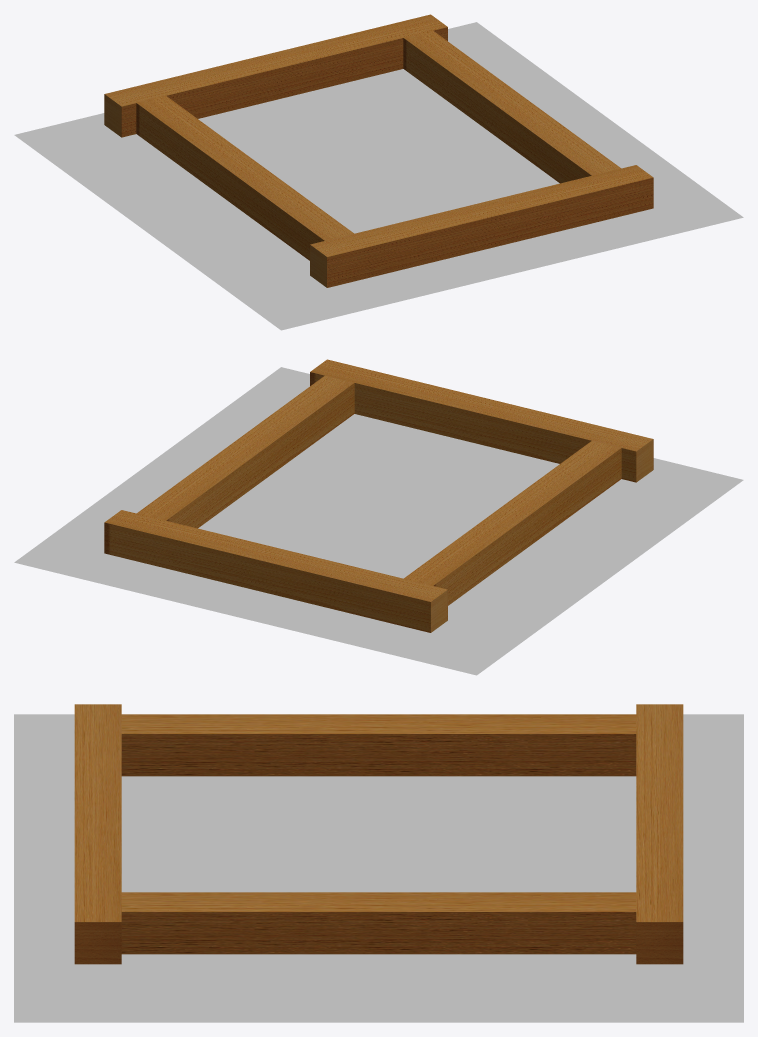
Rendered from map.dae.
The picture shows the model from 3 angles, top to bottom: view 1: azimuth 30°, elevation 25°; view 2: azimuth 150°, elevation 25°; view 3: azimuth 270°, elevation 25°; orthographic projection. The views are drawn at different scales.
Visible parts, largest first — view 1: Plane, Cube.003, Cube.002, Cube, Cube.001; view 2: Plane, Cube.002, Cube.003, Cube, Cube.001; view 3: Plane, Cube.001, Cube, Cube.003, Cube.002.
Part boxes in pixels (box(x1,y1,x2,y2)): Plane: box(14, 22, 743, 330); Cube.003: box(310, 165, 653, 287); Cube.002: box(104, 14, 447, 137); Cube: box(136, 96, 353, 260); Cube.001: box(403, 30, 621, 183); Plane: box(14, 367, 743, 675); Cube.002: box(104, 510, 447, 632); Cube.003: box(310, 359, 653, 482); Cube: box(404, 441, 621, 605); Cube.001: box(136, 375, 354, 528); Plane: box(14, 714, 743, 1022); Cube.001: box(121, 892, 636, 954); Cube: box(121, 714, 636, 776); Cube.003: box(74, 704, 121, 964); Cube.002: box(636, 704, 683, 964).
Size of the model in its own units: 31.2 by 31.2 by 2.61.
